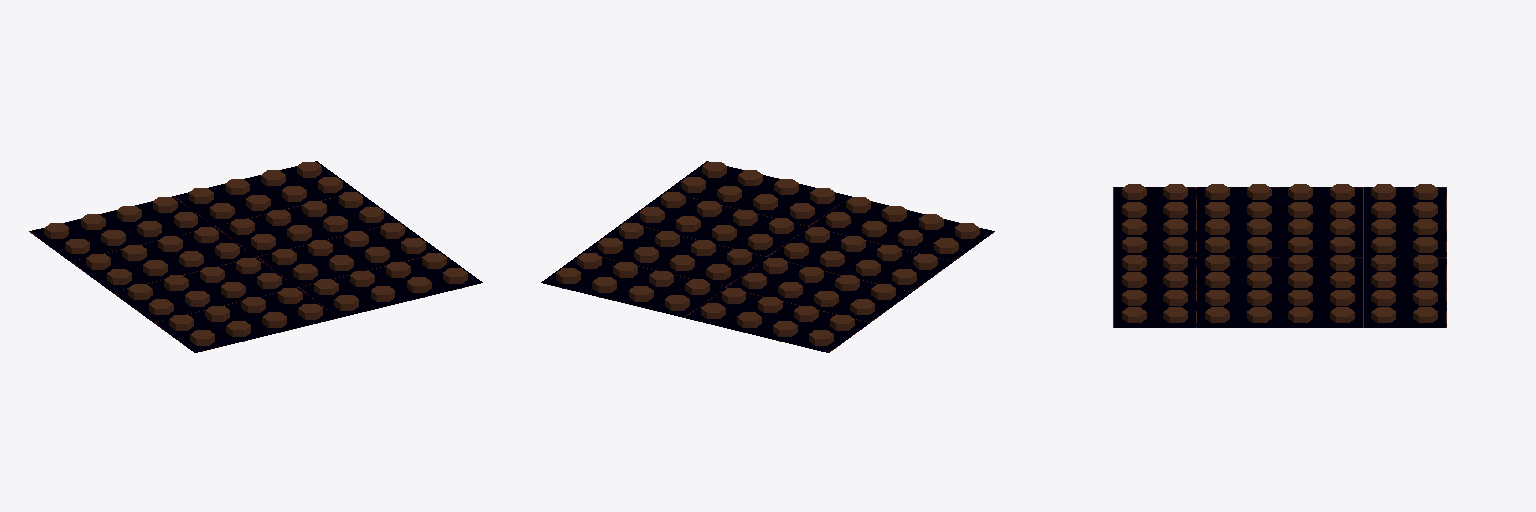
3 views of the same model, side by side, from view 1: azimuth 30°, elevation 25°; view 2: azimuth 150°, elevation 25°; view 3: azimuth 270°, elevation 25° (orthographic).
Parts seen in each view (by area): view 1: Cube.001_Cube.000; view 2: Cube.001_Cube.000; view 3: Cube.001_Cube.000.
Boxes of the visible parts, x1,y1,x2,y2 form: Cube.001_Cube.000: [29, 161, 482, 352]; Cube.001_Cube.000: [541, 161, 994, 352]; Cube.001_Cube.000: [1113, 184, 1446, 327].
Bounding box in the file's own units: 8 × 0.3 × 8.
1 materials, 1 textured.